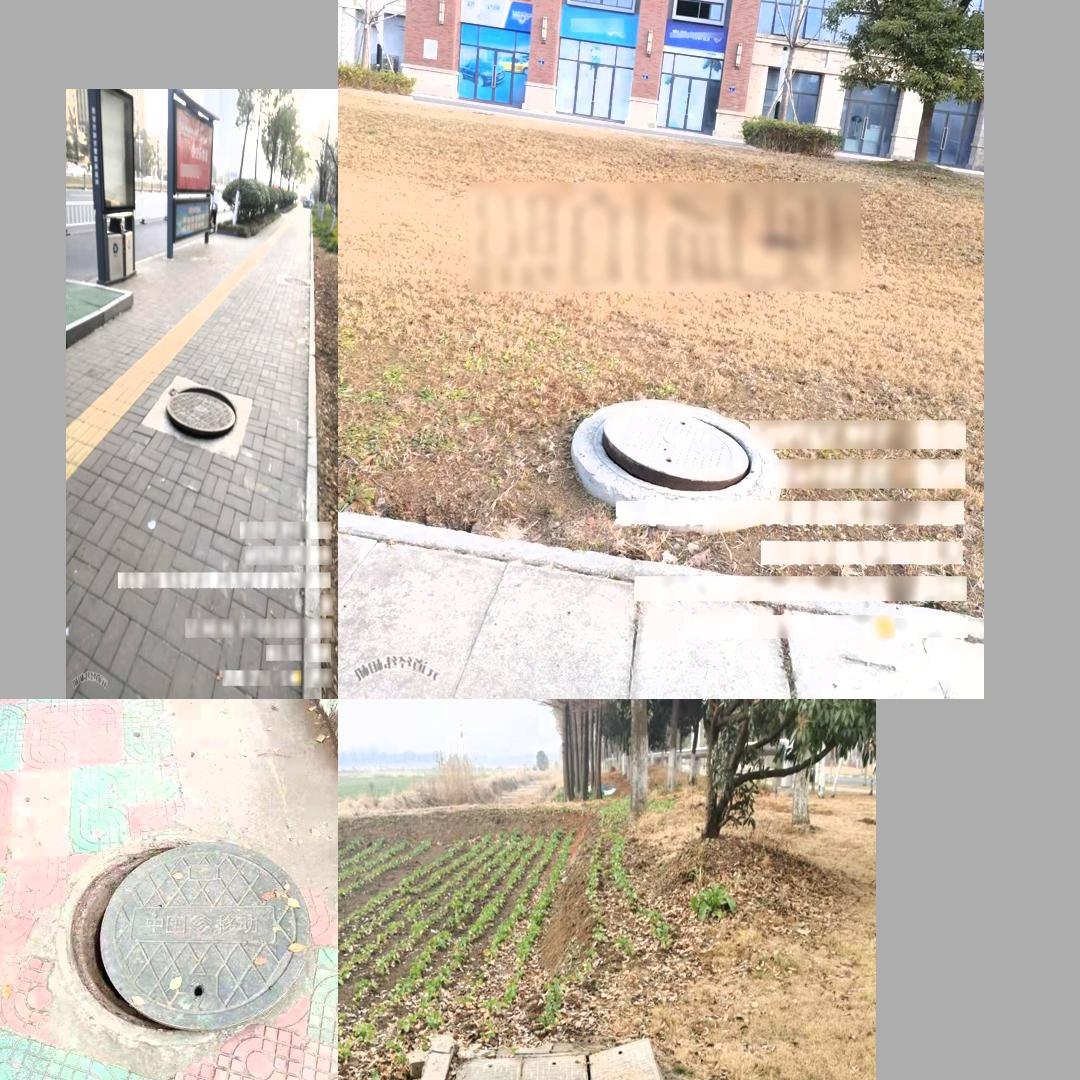uncovered: (63, 828, 322, 1051), (592, 404, 762, 503), (478, 1018, 692, 1080), (164, 385, 238, 444)
